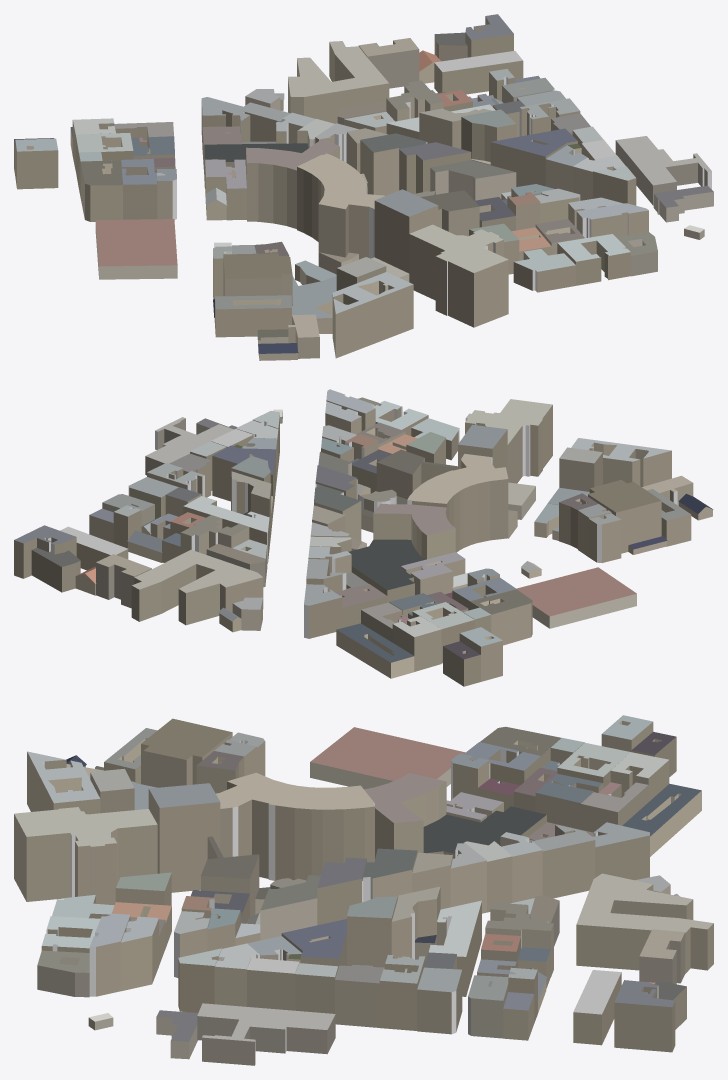
3 renders of one model, top to bottom at view 1: azimuth 30°, elevation 25°; view 2: azimuth 150°, elevation 25°; view 3: azimuth 270°, elevation 25°, orthographic. The views are drawn at different scales.
Visible parts, largest first — view 1: tuile; view 2: tuile; view 3: tuile.
Part boxes in pixels (bbox=[...]): tuile: bbox=[14, 14, 713, 360]; tuile: bbox=[14, 389, 713, 686]; tuile: bbox=[14, 715, 713, 1065].
Bounding box in the file's own units: 293 × 37.25 × 268.
